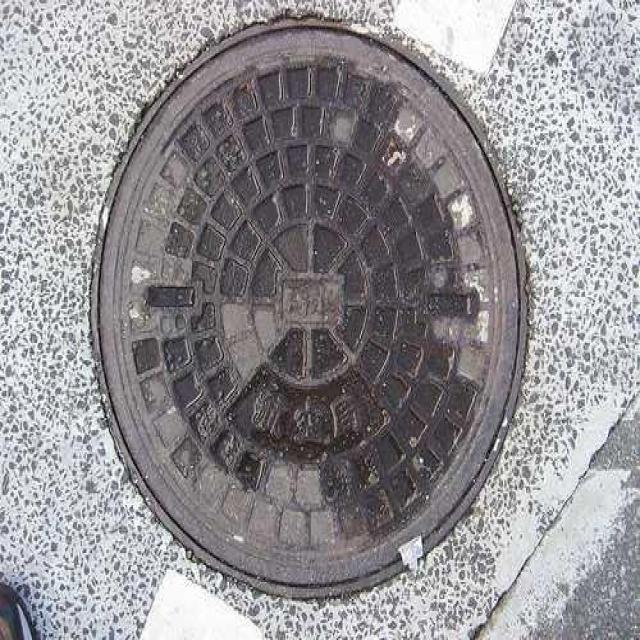manhole: (93, 20, 525, 596)
